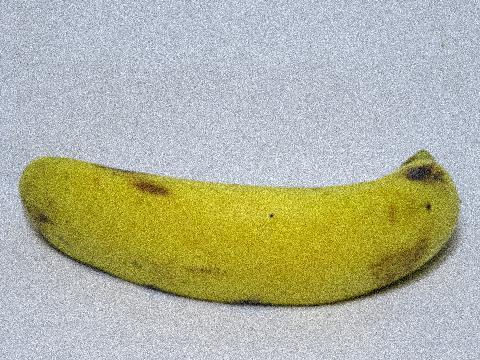freshripe: (10, 136, 479, 322)
